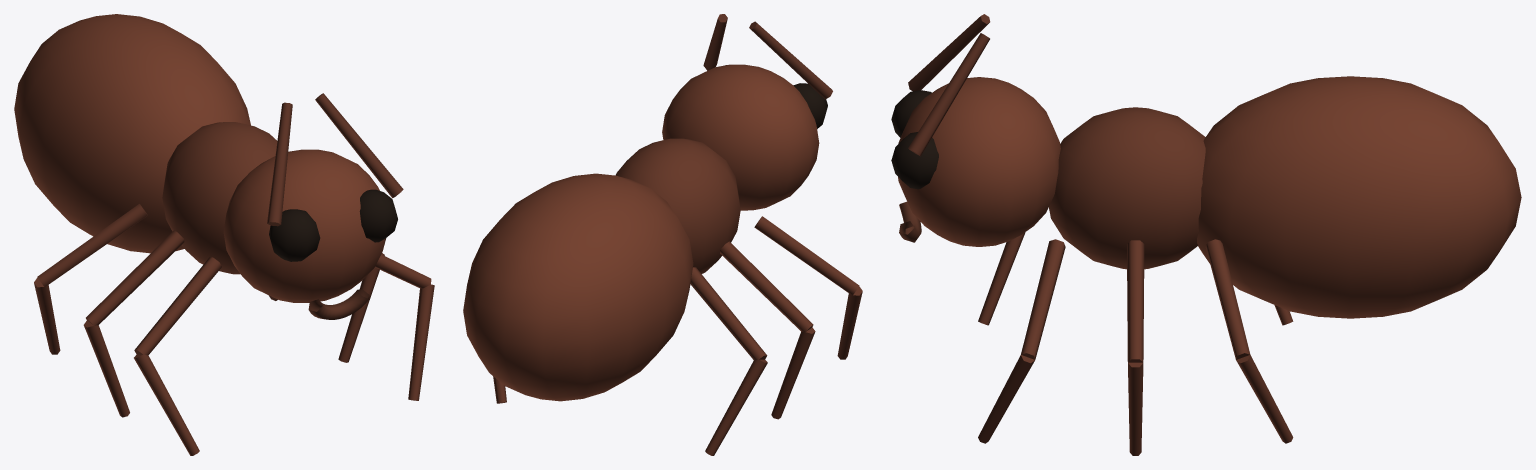
File: h29-semut.glb
3 renders of one model, left to right at view 1: azimuth 30°, elevation 25°; view 2: azimuth 150°, elevation 25°; view 3: azimuth 270°, elevation 25°, orthographic. The views are drawn at different scales.
Visible parts, largest first — view 1: Semut, head; view 2: Semut, head; view 3: Semut, head.
Boxes of the visible parts, x1=… form: Semut: x1=14, y1=14, x2=434, y2=455; head: x1=223, y1=93, x2=403, y2=319; Semut: x1=463, y1=138, x2=862, y2=455; head: x1=662, y1=14, x2=832, y2=210; Semut: x1=978, y1=76, x2=1521, y2=455; head: x1=891, y1=14, x2=1060, y2=246.
Bounding box in the file's own units: 0.3824 × 0.4197 × 0.645.
